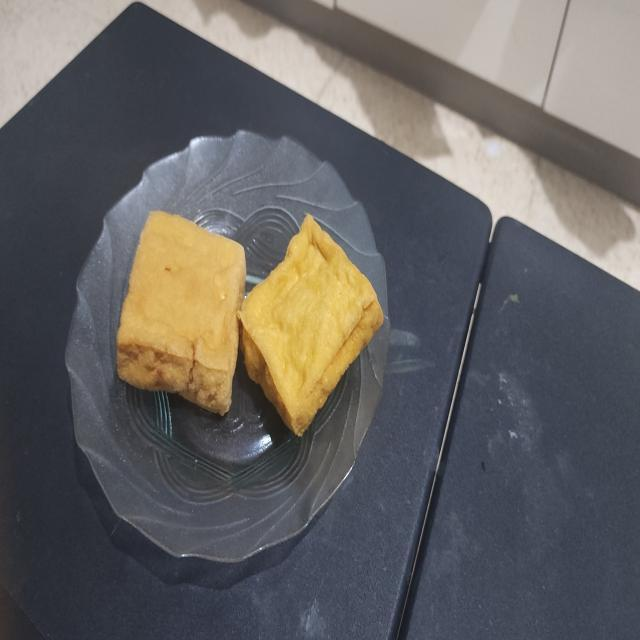tahu_goreng: (238, 214, 383, 436), (117, 210, 246, 416)
